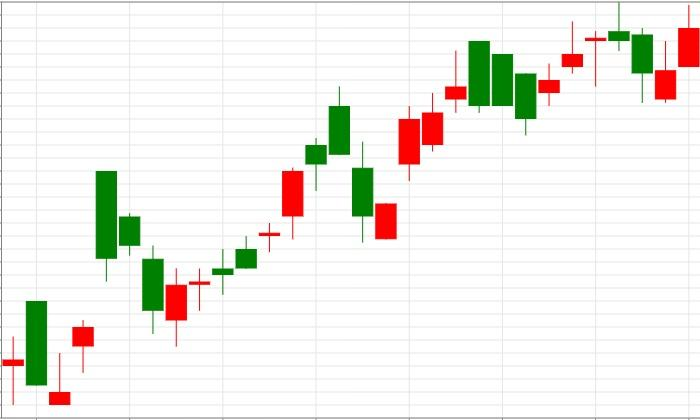bearish_engulfing_fall: (375, 41, 491, 240)
